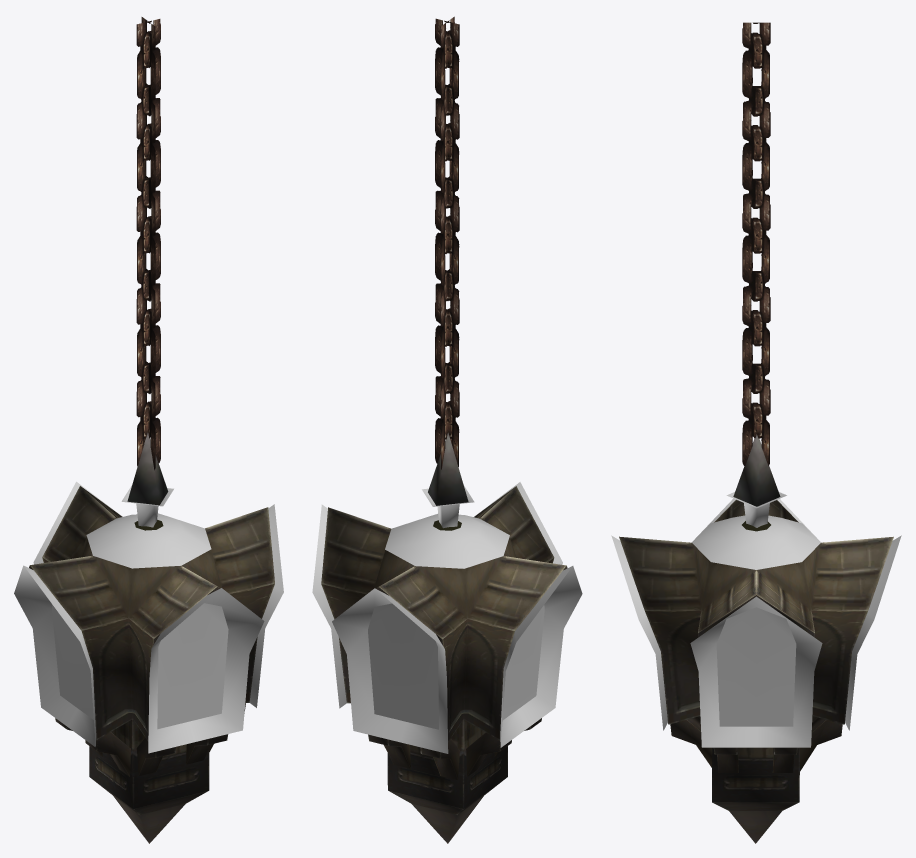
Rendered from fk_lamphanging.obj.
The picture shows the model from 3 angles, left to right: view 1: azimuth 30°, elevation 25°; view 2: azimuth 150°, elevation 25°; view 3: azimuth 270°, elevation 25°; orthographic projection.
Visible parts, largest first — view 1: Geoset0, Geoset1, Geoset2; view 2: Geoset0, Geoset1, Geoset2; view 3: Geoset0, Geoset1, Geoset2.
Boxes of the visible parts, bbox=[...] form: Geoset0: bbox=[29, 432, 274, 843]; Geoset1: bbox=[14, 481, 283, 753]; Geoset2: bbox=[136, 17, 160, 470]; Geoset0: bbox=[321, 432, 567, 843]; Geoset1: bbox=[312, 482, 582, 753]; Geoset2: bbox=[435, 16, 459, 469]; Geoset0: bbox=[619, 434, 893, 843]; Geoset1: bbox=[611, 492, 901, 747]; Geoset2: bbox=[742, 22, 770, 466].
Bounding box in the file's own units: 1.29 × 4.02 × 1.29.
